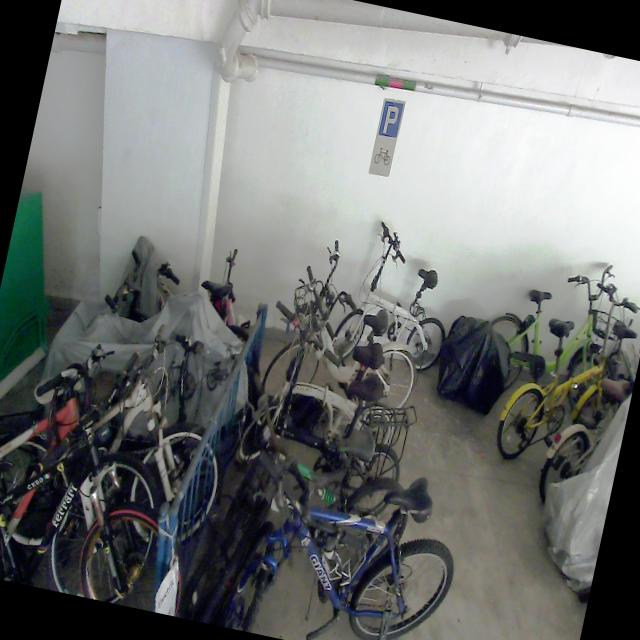bike: (0, 295, 247, 588), (0, 326, 230, 617), (192, 434, 472, 640), (0, 322, 191, 609), (223, 352, 417, 552), (258, 230, 440, 424), (235, 296, 416, 491), (470, 242, 640, 434), (492, 265, 640, 478), (329, 215, 466, 378)
